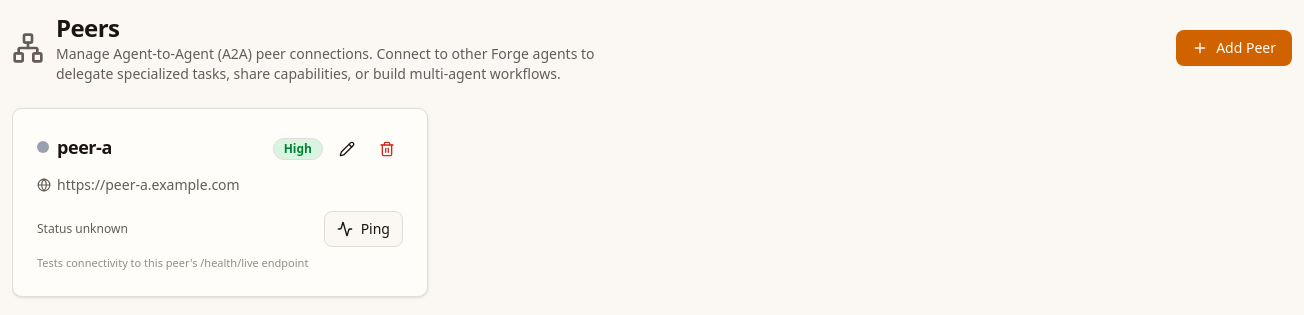
PeersPage ping status › does not render a latency figure when the peer is unreachable
Expected: the heading "peer-a" is shown, x1=57 y1=133 x2=112 y2=161
Click the button "Ping": (363, 229) x1=324 y1=211 x2=403 y2=247
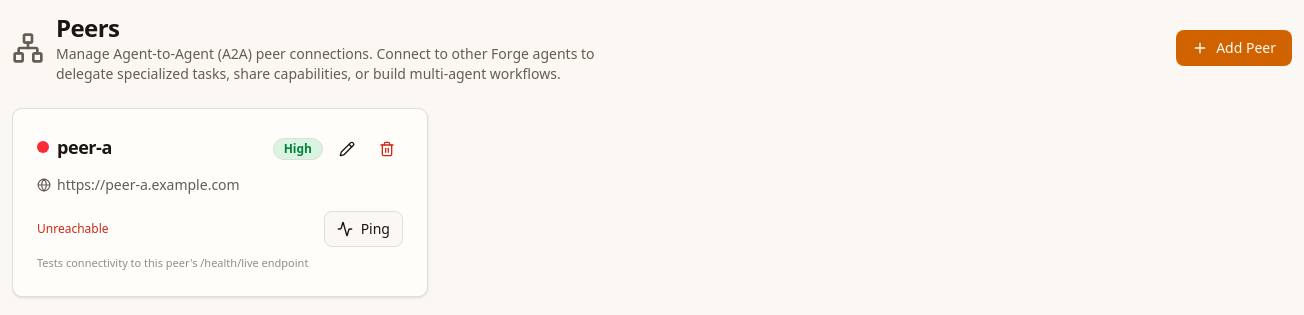
Expected: the text "Unreachable" is shown, x1=37 y1=220 x2=109 y2=237
